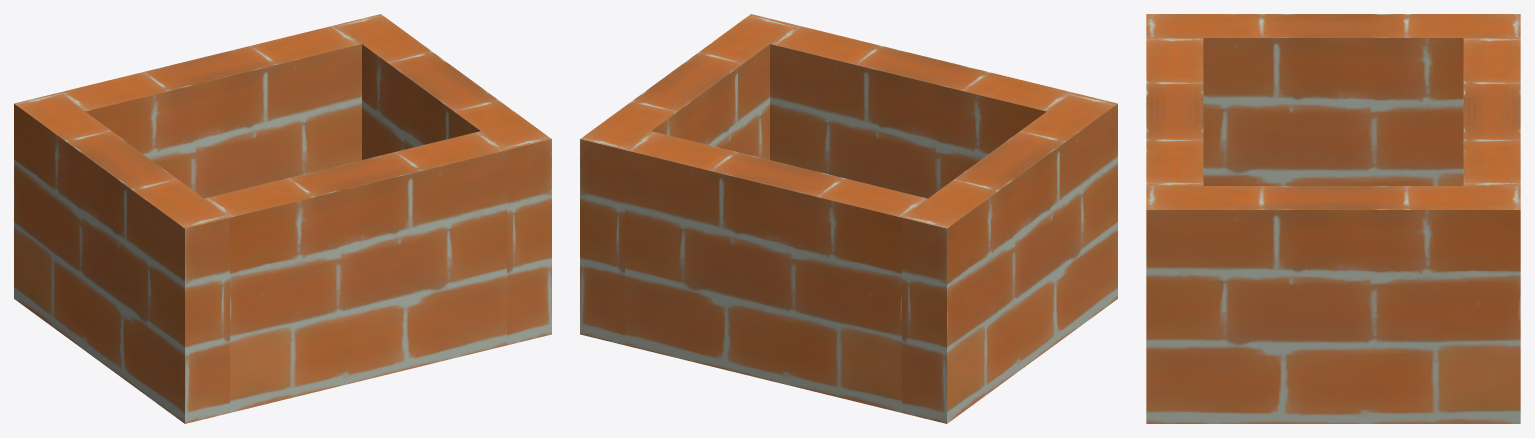
Rendered from Barbecue_Brick.fbx.
The picture shows the model from 3 angles, left to right: view 1: azimuth 30°, elevation 25°; view 2: azimuth 150°, elevation 25°; view 3: azimuth 270°, elevation 25°; orthographic projection. The views are drawn at different scales.
Parts seen in each view (by area): view 1: Barbecue_Brick; view 2: Barbecue_Brick; view 3: Barbecue_Brick.
Boxes of the visible parts, bbox=[...] form: Barbecue_Brick: bbox=[14, 14, 551, 423]; Barbecue_Brick: bbox=[580, 14, 1117, 423]; Barbecue_Brick: bbox=[1146, 14, 1520, 423].
Size of the model in its own units: 92.42 by 47 by 74.59.
